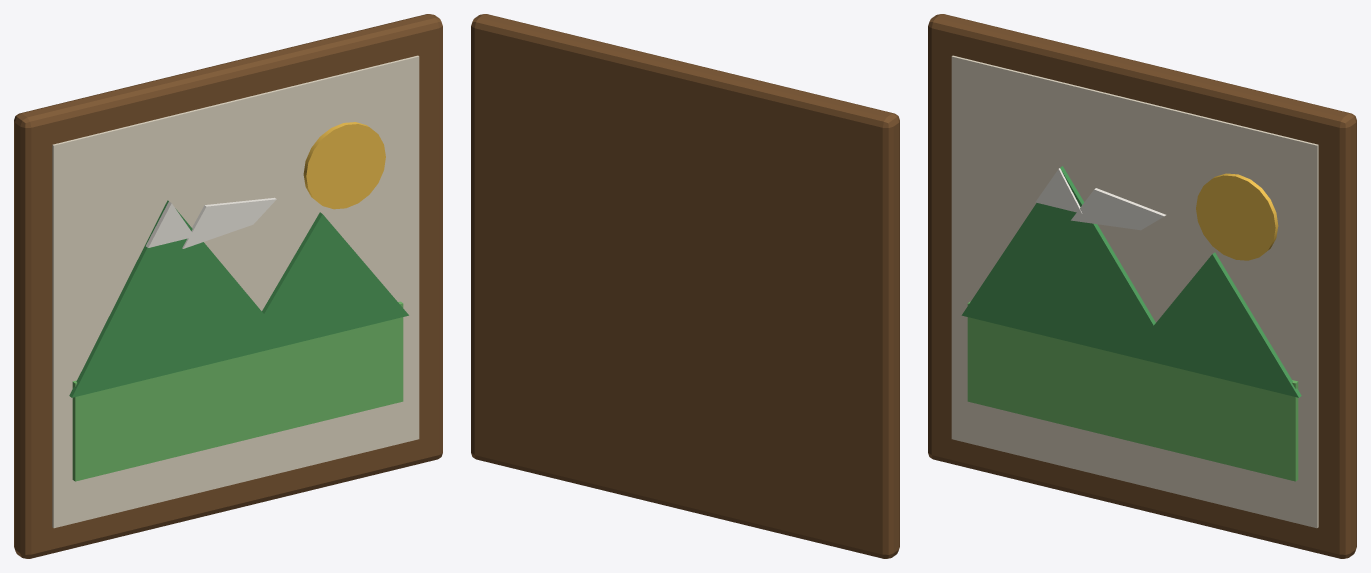
The model's file is quadro.glb.
The picture shows the model from 3 angles, left to right: view 1: azimuth 30°, elevation 25°; view 2: azimuth 150°, elevation 25°; view 3: azimuth 330°, elevation 25°; orthographic projection.
Parts seen in each view (by area): view 1: quadro; view 2: quadro; view 3: quadro.
Part boxes in pixels (bbox=[...]): quadro: bbox=[14, 14, 442, 558]; quadro: bbox=[471, 14, 899, 558]; quadro: bbox=[928, 14, 1356, 558].
Size of the model in its own units: 1.8 by 1.8 by 0.15.
